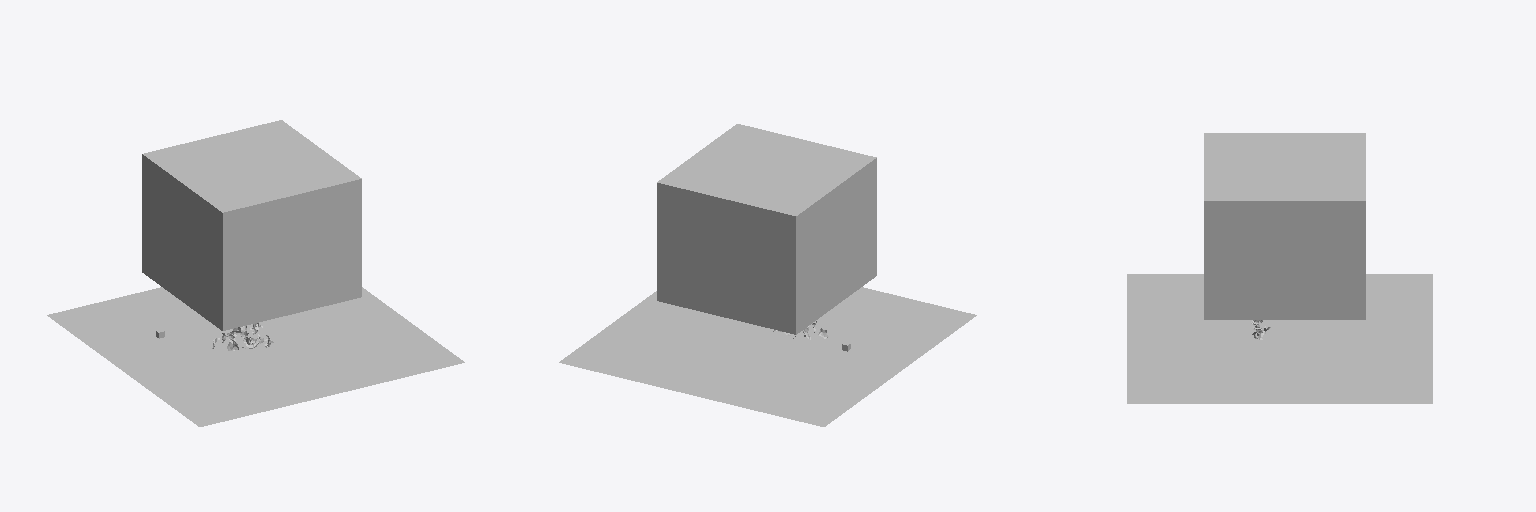
File: Lava Landscape.obj
3 views of the same model, side by side, from view 1: azimuth 30°, elevation 25°; view 2: azimuth 150°, elevation 25°; view 3: azimuth 270°, elevation 25° (orthographic).
Visible parts, largest first — view 1: smoke_Cube, Plane, Monkey; view 2: smoke_Cube, Plane; view 3: Plane, smoke_Cube.
Part boxes in pixels (bbox=[...]): smoke_Cube: bbox=[142, 120, 361, 330]; Plane: bbox=[47, 287, 464, 426]; Monkey: bbox=[212, 323, 273, 351]; smoke_Cube: bbox=[657, 124, 876, 334]; Plane: bbox=[559, 287, 976, 426]; Plane: bbox=[1127, 274, 1432, 403]; smoke_Cube: bbox=[1204, 133, 1365, 319].
Size of the model in its own units: 14.22 by 9.01 by 14.22.